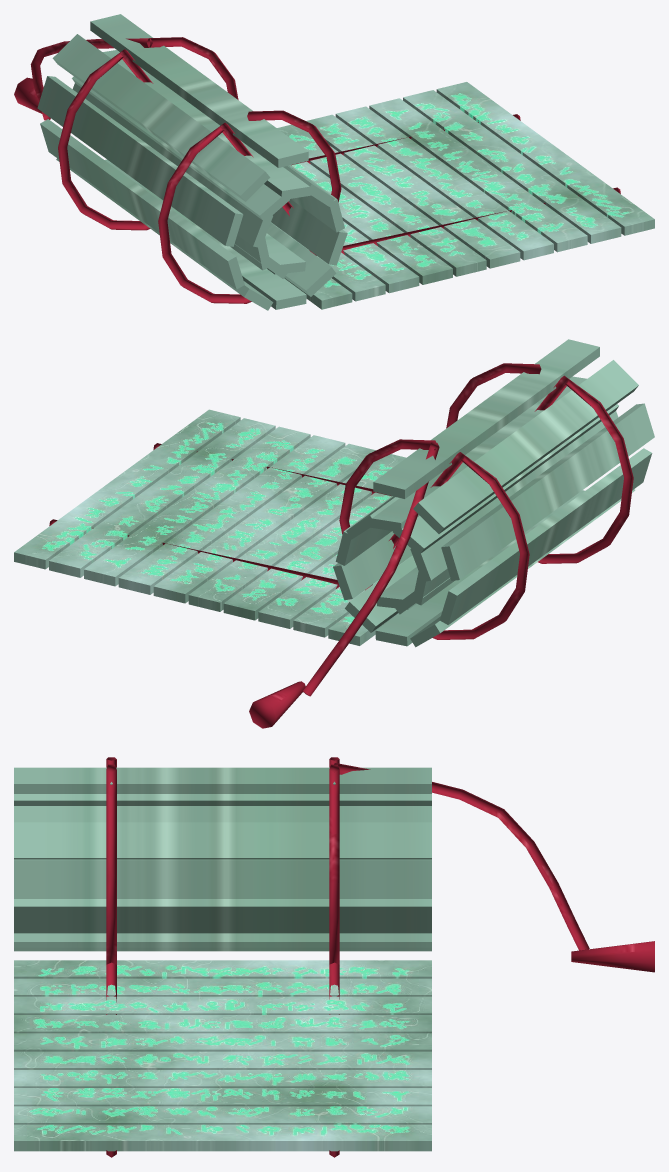
File: jade_slip.glb
3 renders of one model, top to bottom at view 1: azimuth 30°, elevation 25°; view 2: azimuth 150°, elevation 25°; view 3: azimuth 270°, elevation 25°, orthographic. The views are drawn at different scales.
Visible parts, largest first — view 1: JadeSlips, SlipCord; view 2: JadeSlips, SlipCord; view 3: JadeSlips, SlipCord.
Boxes of the visible parts, x1,y1,x2,y2 form: JadeSlips: [37, 14, 654, 310]; SlipCord: [14, 37, 620, 303]; JadeSlips: [14, 339, 654, 647]; SlipCord: [49, 363, 633, 728]; JadeSlips: [14, 767, 431, 1151]; SlipCord: [106, 757, 654, 1157].
Size of the model in its own units: 0.4231 by 0.1663 by 0.46.
2 materials, 2 textured.
